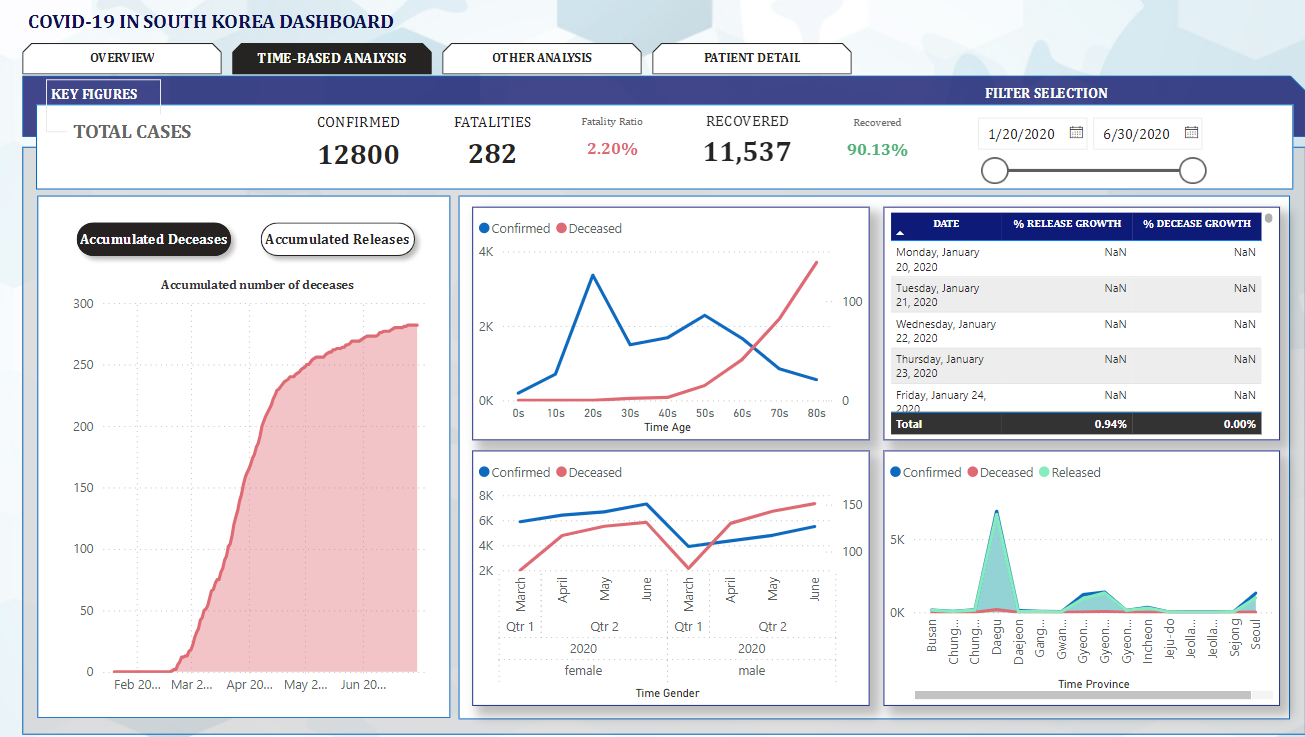

The dashboard page shown, as its layout file describes it:
{"tool":"powerbi","page":{"name":"TIME-BASED ANALYSIS","canvas":[1280,720],"ordinal":1},"visuals":[{"type":"textbox","box":[35,11.2,378.8,36.2],"z":0},{"type":"shape","box":[35,146.2,1222.5,560],"z":1000},{"type":"shape","title":"Key figures","box":[35,78.8,1222.5,58.8],"z":2000},{"type":"group","id":"g1","title":"Group 1","box":[47.5,106.2,1197.5,585],"z":3000},{"type":"shape","box":[47.5,106.2,1197.5,81.2],"z":3000,"group":"g1"},{"type":"textbox","box":[946.4,81,142.9,51.2],"z":4000},{"type":"shape","box":[49.2,192.5,393.5,497.8],"z":4000,"group":"g1"},{"type":"textbox","box":[57.6,81.7,109.3,50.4],"z":5000},{"type":"shape","box":[450.1,192.5,791.9,499],"z":5000,"group":"g1"},{"type":"card","title":"CONFIRMED","fields":{"Values":["Max(Time.confirmed)"]},"box":[297.3,114.2,114.3,61.9],"z":6000},{"type":"slicer","fields":{"Values":["Time.date"]},"box":[932.1,108.3,238.1,78.6],"z":7000},{"type":"textbox","box":[77,115.4,141.5,55.9],"z":8000},{"type":"pageNavigator","box":[34.5,47.6,790.5,31],"z":9000},{"type":"card","title":"Fatality Ratio","fields":{"Values":["MEASURE.Fatality Ratio"]},"box":[544.2,115.9,104.5,55.2],"z":10000},{"type":"card","title":"Recovered","fields":{"Values":["MEASURE.Recovered"]},"box":[799.5,117.3,97.6,54.8],"z":11000},{"type":"areaChart","title":"Accumulated number of deceases","fields":{"Category":["Time.date.Variation.Date Hierarchy.Year","Time.date.Variation.Date Hierarchy.Quarter","Time.date.Variation.Date Hierarchy.Month","Time.date.Variation.Date Hierarchy.Day"],"Y":["Max(Time.deceased)"]},"box":[77,270.6,362.5,405.9],"z":12000},{"type":"bookmarkNavigator","box":[77,209.8,340.1,50.9],"z":13000},{"type":"lineChart","fields":{"Category":["TimeAge.date","TimeAge.age"],"Y":["Max(TimeAge.confirmed)"],"Y2":["Max(TimeAge.deceased)"]},"box":[463.1,203.6,378.6,222.6],"z":15000},{"type":"lineChart","fields":{"Category":["TimeGender.sex","Time.date.Variation.Date Hierarchy.Year","Time.date.Variation.Date Hierarchy.Quarter","Time.date.Variation.Date Hierarchy.Month"],"Y":["Max(TimeGender.confirmed)"],"Y2":["Max(TimeGender.deceased)"]},"box":[463.2,435.2,378.6,243.3],"z":16000},{"type":"tableEx","fields":{"Values":["Time.date","MEASURE.% RELEASE GROWTH","MEASURE.% DEAD GROWTH"]},"box":[854.8,203.6,377.4,222.6],"z":17000},{"type":"areaChart","fields":{"Category":["TimeProvince.date","TimeProvince.province"],"Y":["Max(TimeProvince.confirmed)","Max(TimeProvince.deceased)","Max(TimeProvince.released)"]},"box":[854.2,435.2,377.4,243.3],"z":18000},{"type":"card","title":"FATALITIES","fields":{"Values":["Max(Time.deceased)"]},"box":[422.8,114.2,120,60],"z":19000},{"type":"card","title":"RECOVERED","fields":{"Values":["Max(Time.released)"]},"box":[658.6,113.6,133.3,59.5],"z":20000}]}

Visuals, with their boxes in screenshot pixels (x1, y1, x2, y2), scaled from the page's 1280x720 canvas onto the 1305x737 screenshot:
textbox: crop(36, 11, 422, 49)
shape: crop(36, 150, 1282, 723)
"Key figures" shape: crop(36, 81, 1282, 141)
"Group 1" group: crop(48, 109, 1269, 708)
shape: crop(48, 109, 1269, 192)
textbox: crop(965, 83, 1111, 135)
shape: crop(50, 197, 451, 707)
textbox: crop(59, 84, 170, 135)
shape: crop(459, 197, 1266, 708)
"CONFIRMED" card: crop(303, 117, 420, 180)
slicer - Time.date: crop(950, 111, 1193, 191)
textbox: crop(79, 118, 223, 175)
pageNavigator: crop(35, 49, 841, 80)
"Fatality Ratio" card: crop(555, 119, 661, 175)
"Recovered" card: crop(815, 120, 915, 176)
"Accumulated number of deceases" areaChart: crop(79, 277, 448, 692)
bookmarkNavigator: crop(79, 215, 425, 267)
lineChart - TimeAge.date x TimeAge.age: crop(472, 208, 858, 436)
lineChart - TimeGender.sex x Time.date.Variation.Date Hierarchy.Year: crop(472, 445, 858, 695)
tableEx - Time.date x MEASURE.% RELEASE GROWTH: crop(871, 208, 1256, 436)
areaChart - TimeProvince.date x TimeProvince.province: crop(871, 445, 1256, 695)
"FATALITIES" card: crop(431, 117, 553, 178)
"RECOVERED" card: crop(671, 116, 807, 177)
